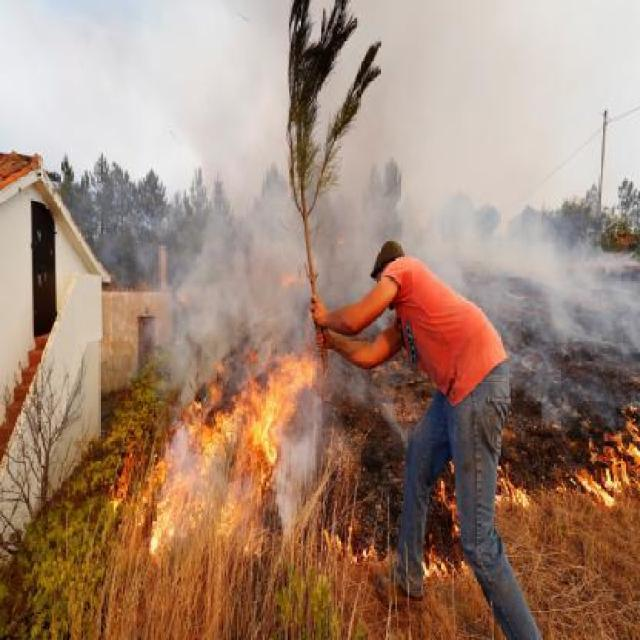Fire: (97, 343, 333, 550), (565, 425, 640, 507)
Smoke: (128, 115, 352, 550), (348, 120, 637, 433)
